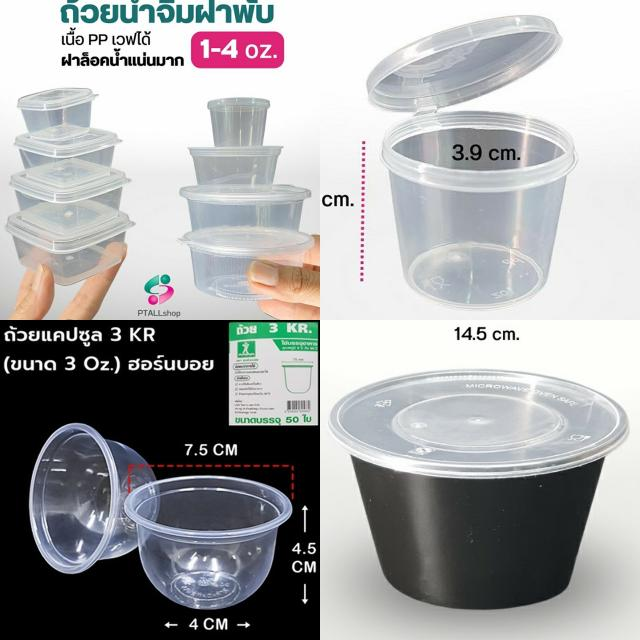Single-Use-Plastic: (330, 370, 629, 609), (368, 15, 578, 310), (125, 476, 292, 609), (29, 424, 155, 574), (5, 199, 135, 285), (179, 226, 312, 299), (180, 184, 311, 231), (10, 158, 130, 209), (14, 124, 121, 169), (18, 88, 98, 134), (189, 146, 281, 185), (208, 98, 270, 146)
